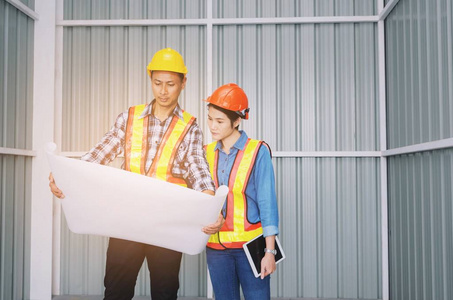person: (48, 45, 225, 300), (202, 82, 287, 300)
reflective_vest: (202, 138, 273, 251), (124, 104, 199, 189)
safety_helmet: (203, 82, 251, 142), (145, 45, 188, 109)
